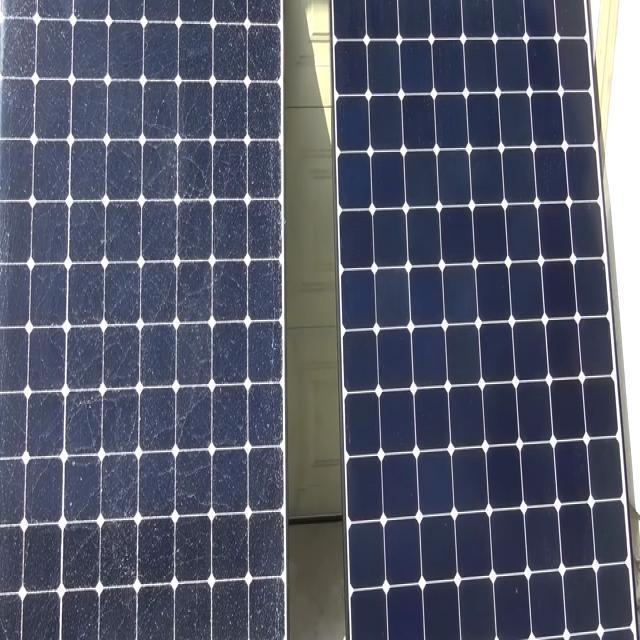Normal Solar Panel: (337, 0, 635, 640)
